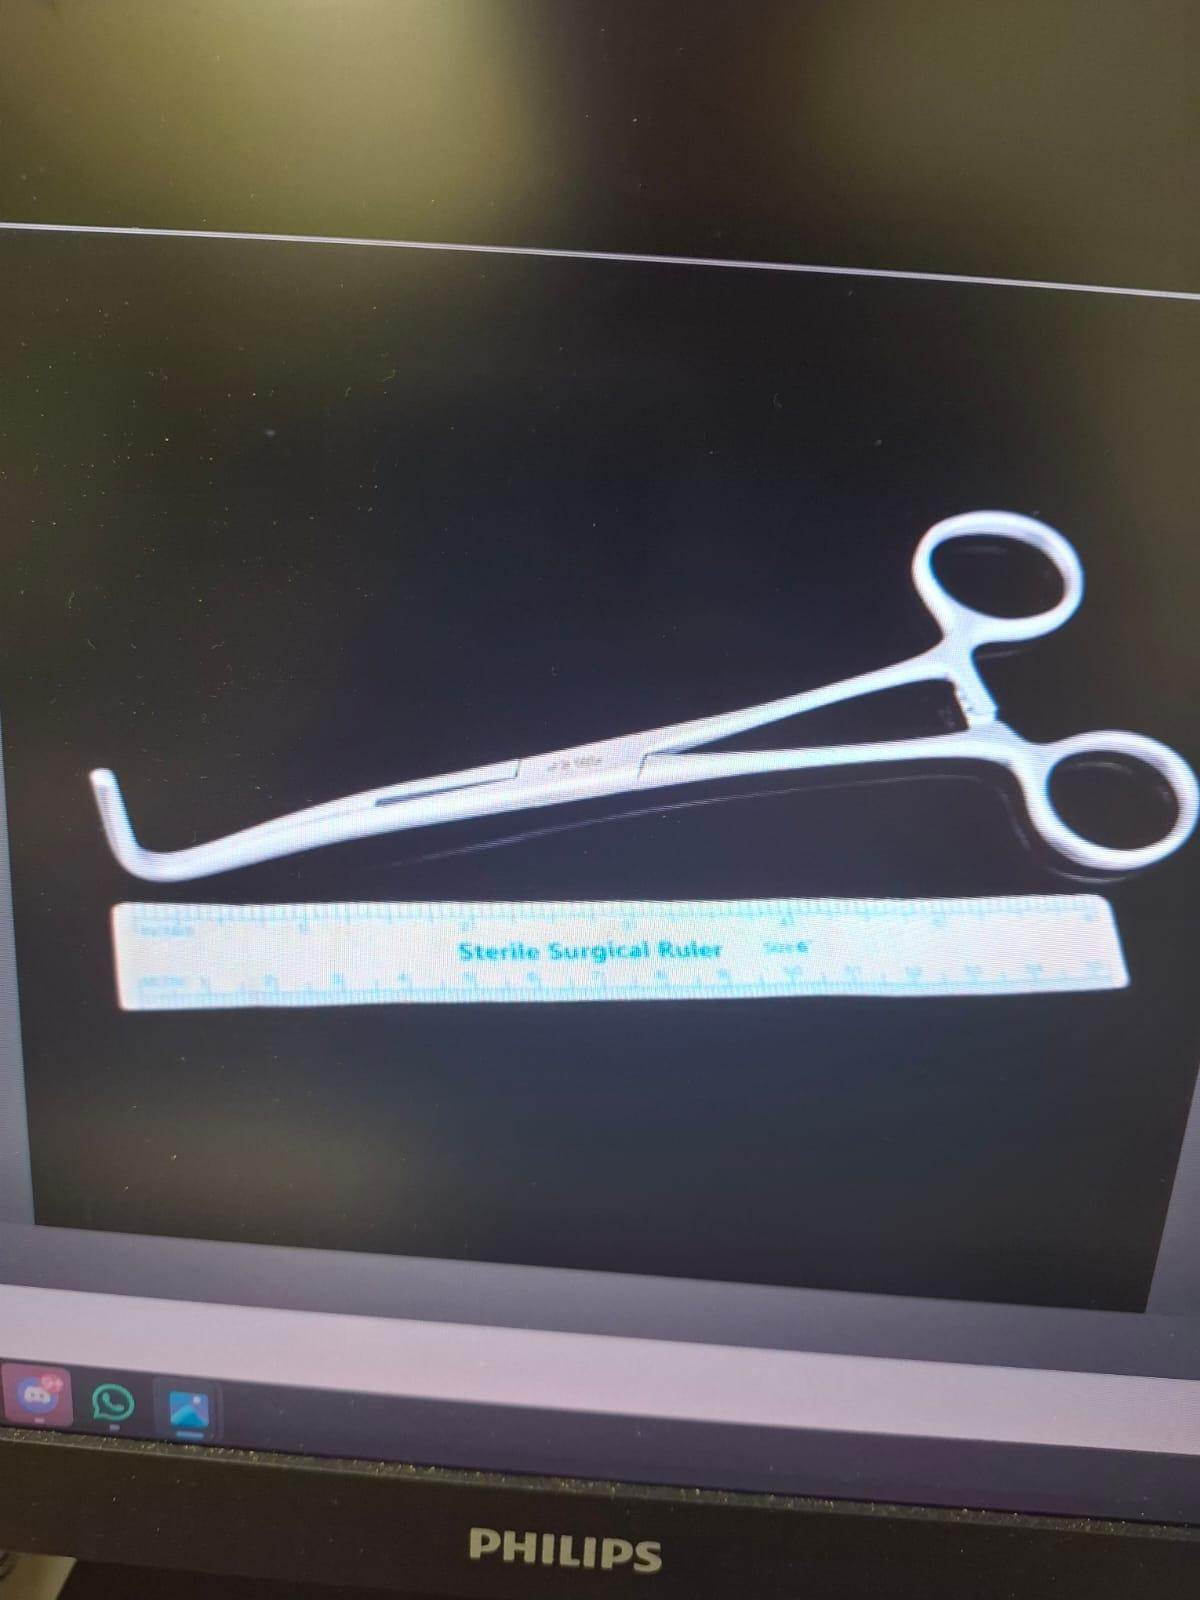Rectangle Cholecystectomy Forceps: (73, 490, 1200, 902)
